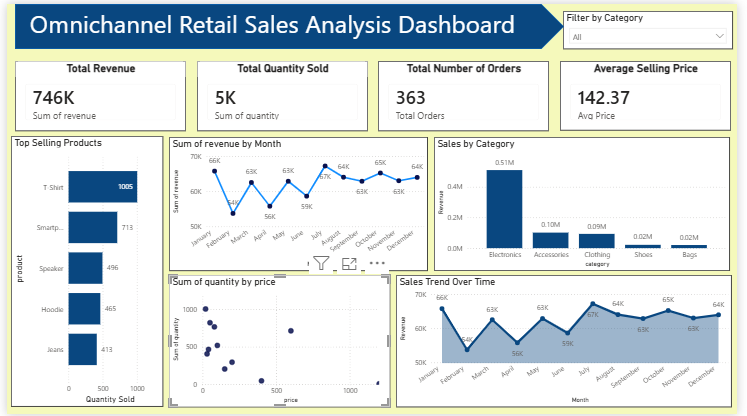

Layout of this report page (visuals, bound fields, positions):
{"tool":"powerbi","page":{"name":"Page 1","canvas":[1280,720],"ordinal":0},"visuals":[{"type":"group","id":"g1","title":"Group 1","box":[7,12.3,1267.1,694.7],"z":0},{"type":"cardVisual","title":"Total Revenue","fields":{"Data":["Sum(cleaned_data.revenue)"]},"box":[14.5,99.6,300,122.8],"z":0,"group":"g1"},{"type":"cardVisual","title":"Total Quantity Sold","fields":{"Data":["Sum(cleaned_data.quantity)"]},"box":[333.1,99.6,300,122.8],"z":1000,"group":"g1"},{"type":"scatterChart","fields":{"X":["cleaned_data.price"],"Y":["Sum(cleaned_data.quantity)"]},"box":[284.2,475.4,387.7,231.6],"z":1000},{"type":"clusteredColumnChart","title":"Sales by Category","fields":{"Category":["cleaned_data.category"],"Y":["Sum(cleaned_data.revenue)"]},"box":[749.1,232.9,519.3,235],"z":2000,"group":"g1"},{"type":"lineChart","fields":{"Category":["cleaned_data.date.Variation.Date Hierarchy.Month"],"Y":["Sum(cleaned_data.revenue)"]},"box":[284.2,233.3,454.4,235.1],"z":2000},{"type":"cardVisual","title":"Total Number of Orders","fields":{"Data":["cleaned_data.Total Orders"]},"box":[651.6,99.6,300,122.8],"z":3000},{"type":"clusteredBarChart","title":"Top Selling Products","fields":{"Category":["cleaned_data.product"],"Y":["Sum(cleaned_data.quantity)"]},"box":[7,231.6,266.7,475.4],"z":3000,"group":"g1"},{"type":"cardVisual","title":"Average Selling Price","fields":{"Data":["cleaned_data.Avg Price"]},"box":[970.2,100,300,122],"z":4000},{"type":"lineChart","title":"Sales Trend Over Time","fields":{"Y":["Sum(cleaned_data.revenue)"],"Category":["cleaned_data.date.Variation.Date Hierarchy.Month"]},"box":[682.8,475.5,589.5,231.6],"z":4000,"group":"g1"},{"type":"shape","box":[14,0,963.2,78.9],"z":5000},{"type":"slicer","title":"Filter by Category","fields":{"Values":["cleaned_data.category"]},"box":[975.8,12.3,298.2,66.7],"z":5000,"group":"g1"},{"type":"textbox","box":[35.1,0,870.2,78.9],"z":6000}]}

Visuals, with their boxes in screenshot pixels (x1, y1, x2, y2), scaled from the page's 1280x720 canvas onto the 747x416 screenshot:
"Group 1" group: 4/7/744/408
"Total Revenue" cardVisual: 8/58/184/128
"Total Quantity Sold" cardVisual: 194/58/369/128
scatterChart - cleaned_data.price x Sum(cleaned_data.quantity): 166/275/392/408
"Sales by Category" clusteredColumnChart: 437/135/740/270
lineChart - cleaned_data.date.Variation.Date Hierarchy.Month x Sum(cleaned_data.revenue): 166/135/431/271
"Total Number of Orders" cardVisual: 380/58/555/128
"Top Selling Products" clusteredBarChart: 4/134/160/408
"Average Selling Price" cardVisual: 566/58/741/128
"Sales Trend Over Time" lineChart: 398/275/743/409
shape: 8/0/570/46
"Filter by Category" slicer: 569/7/743/46
textbox: 20/0/528/46
